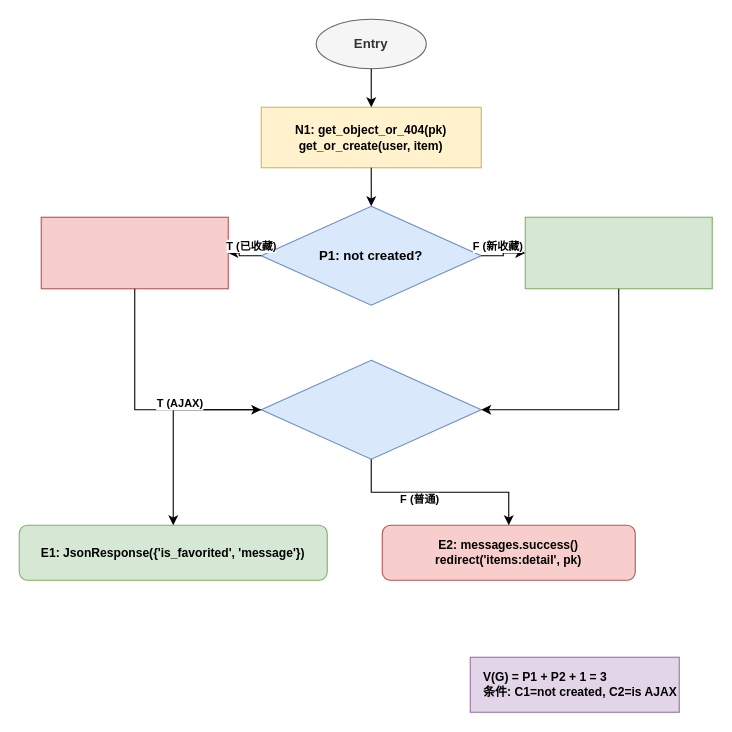
This 732x732 diagram has some shape labels left out. Here are the shapes that lost their labels. From the top down, the centre of each, then its label:
At (x=134, y=252): "N3: favorite.delete() is_favorited = False msg = '已取消收藏'".
At (x=618, y=252): "N4: is_favorited = True msg = '已添加到收藏'".
At (x=370, y=409): "P2: X-Requested-With == 'XMLHttpRequest'?".
